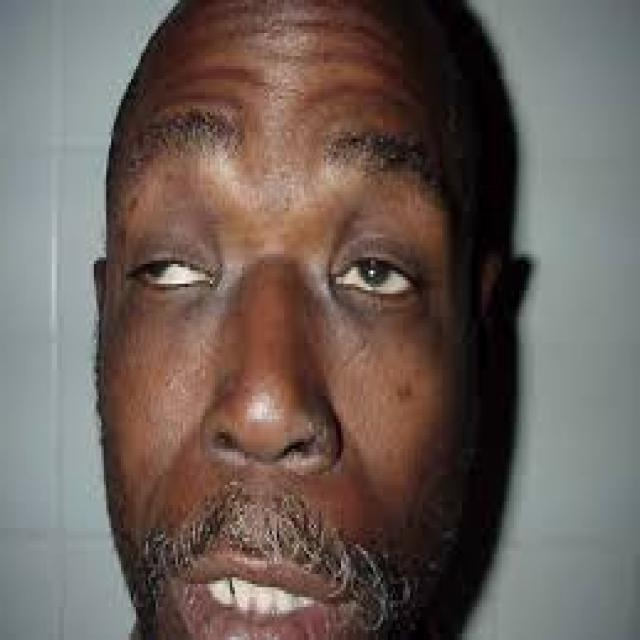stroke_face: (91, 0, 496, 640)
